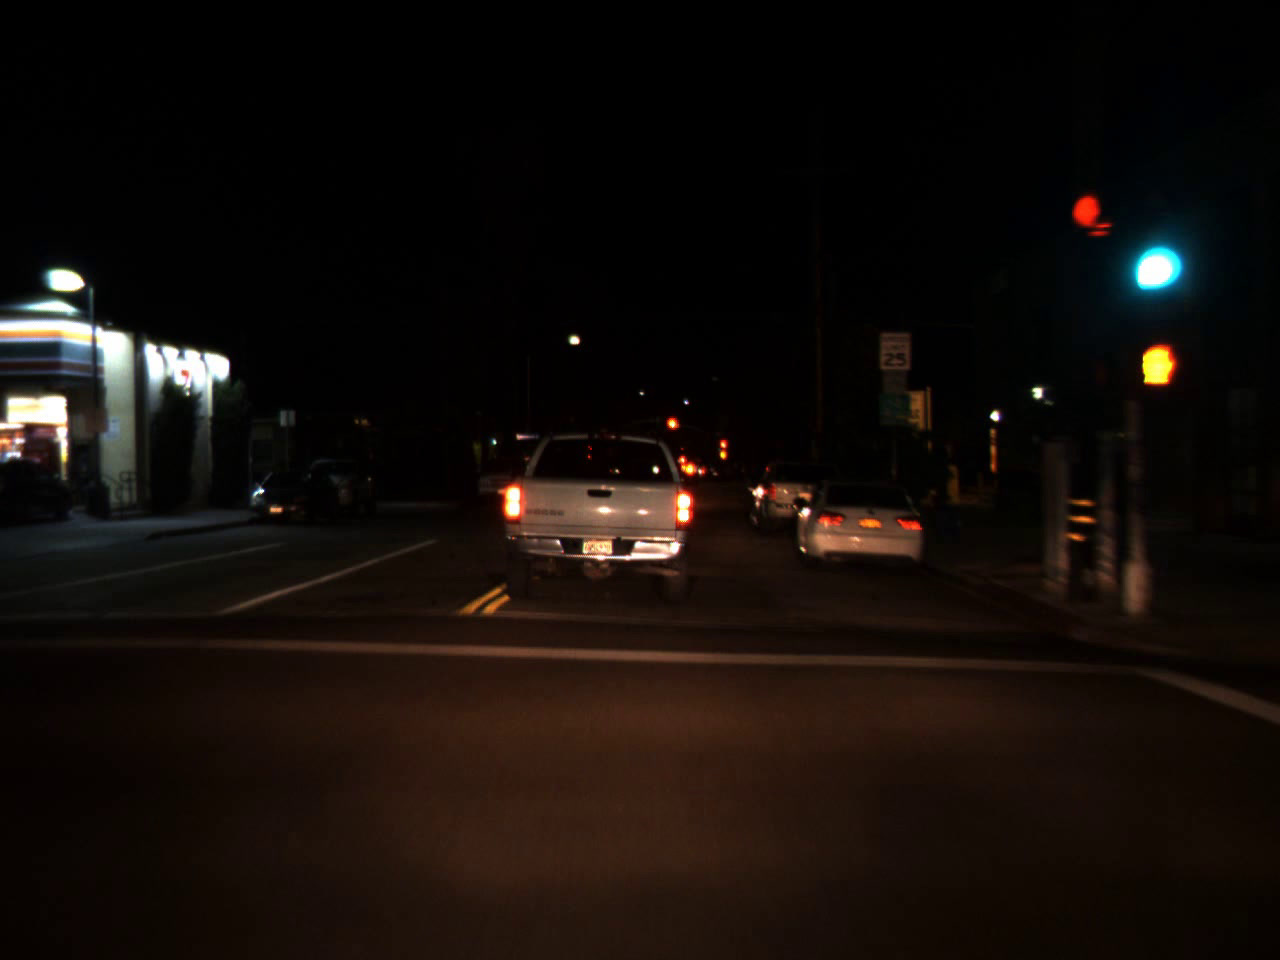go: (1126, 213, 1176, 297)
stop: (664, 415, 680, 447), (719, 438, 726, 459)
